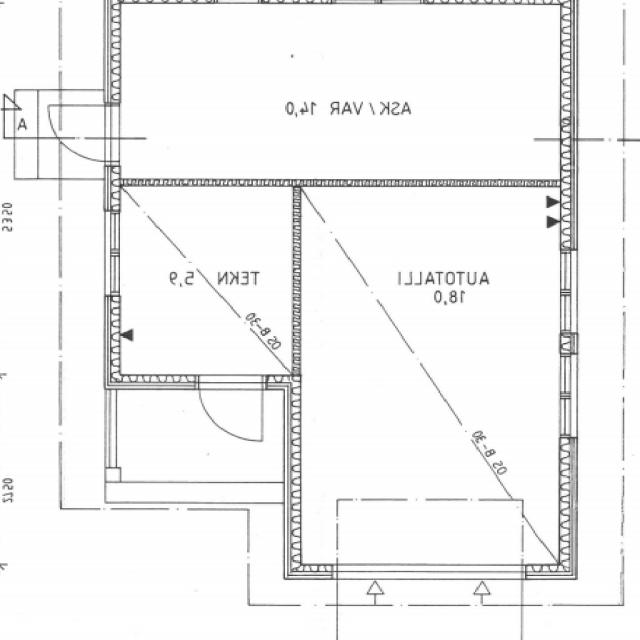door: (198, 375, 262, 446), (40, 105, 120, 161)
